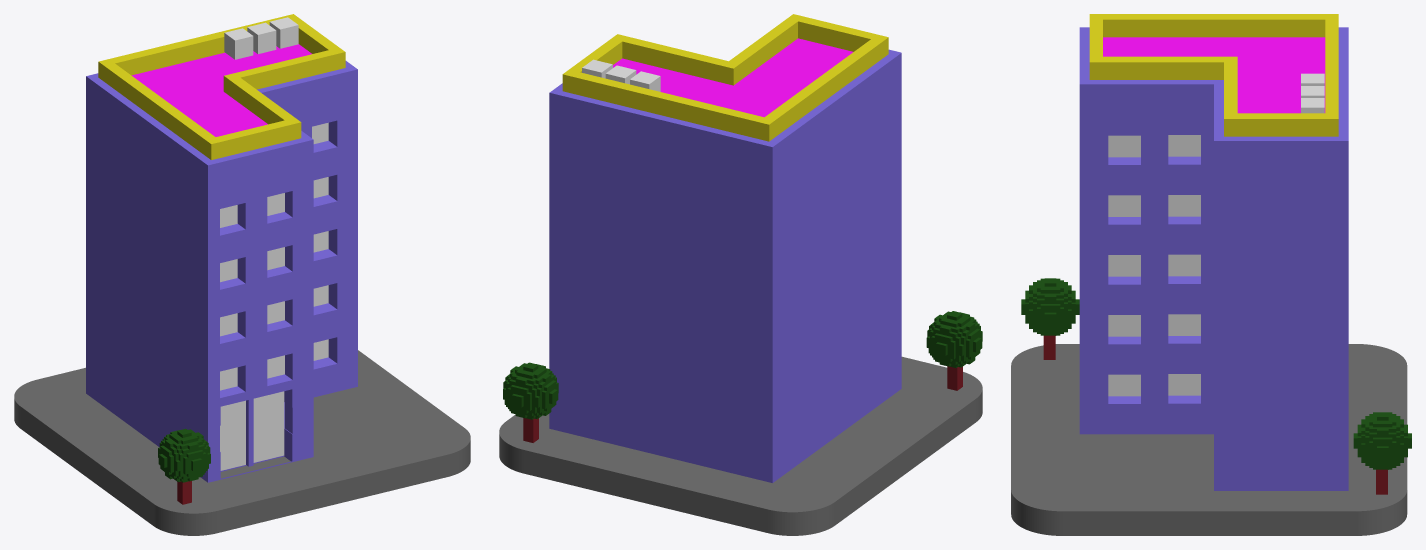
3 views of the same model, side by side, from view 1: azimuth 30°, elevation 25°; view 2: azimuth 150°, elevation 25°; view 3: azimuth 270°, elevation 25° (orthographic). The views are drawn at different scales.
Parts seen in each view (by area): view 1: 立方体, Cube, 球, 立方体.001, 立方体.003, 立方体.004; view 2: 立方体, Cube, 球, 球.001; view 3: 立方体, Cube, 球, 球.001.
Part boxes in pixels (bbox=[...]): 立方体: bbox=[86, 14, 357, 482]; Cube: bbox=[14, 350, 470, 535]; 球: bbox=[158, 428, 210, 482]; 立方体.001: bbox=[224, 28, 253, 59]; 立方体.003: bbox=[247, 22, 276, 53]; 立方体.004: bbox=[269, 17, 298, 48]; 立方体: bbox=[549, 14, 901, 482]; Cube: bbox=[499, 356, 982, 535]; 球: bbox=[926, 311, 982, 367]; 球.001: bbox=[503, 362, 558, 419]; 立方体: bbox=[1079, 14, 1348, 490]; Cube: bbox=[1011, 344, 1407, 535]; 球: bbox=[1021, 278, 1079, 335]; 球.001: bbox=[1353, 412, 1411, 469].
Bounding box in the file's own units: 588 × 651 × 595.
